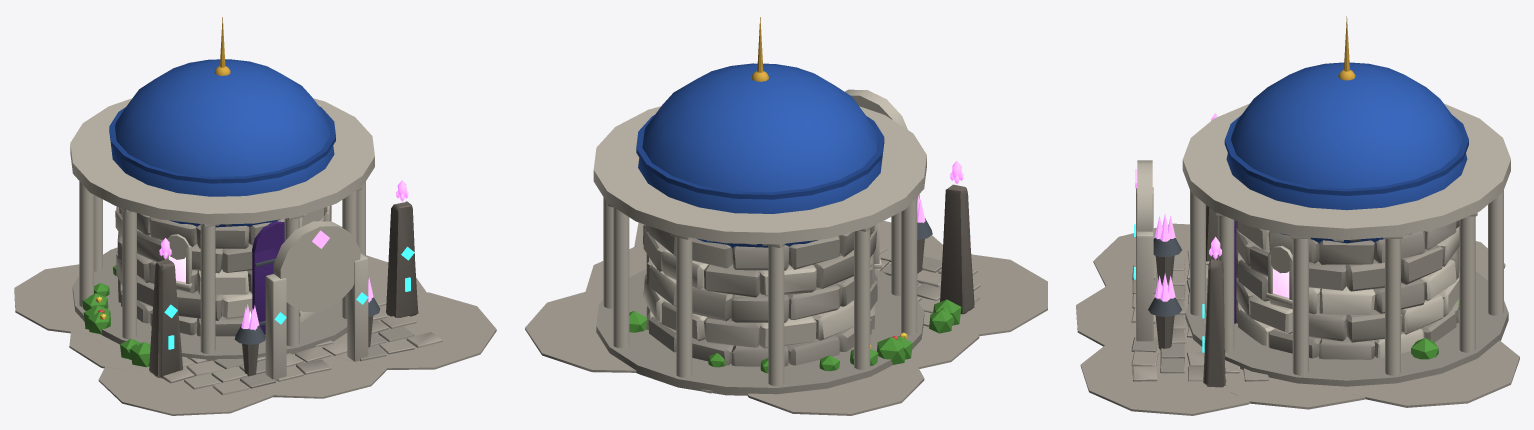
Rendered from budynek_fuzji_poz15.glb.
3 renders of one model, left to right at view 1: azimuth 30°, elevation 25°; view 2: azimuth 150°, elevation 25°; view 3: azimuth 270°, elevation 25°, orthographic. The views are drawn at different scales.
Parts seen in each view (by area): view 1: budynek_fuzji_poz15; view 2: budynek_fuzji_poz15; view 3: budynek_fuzji_poz15.
Boxes of the visible parts, x1,y1,x2,y2 form: budynek_fuzji_poz15: (14,17,496,415); budynek_fuzji_poz15: (525,17,1047,415); budynek_fuzji_poz15: (1076,16,1519,415).
Bounding box in the file's own units: 8.92 × 6.84 × 8.79.
